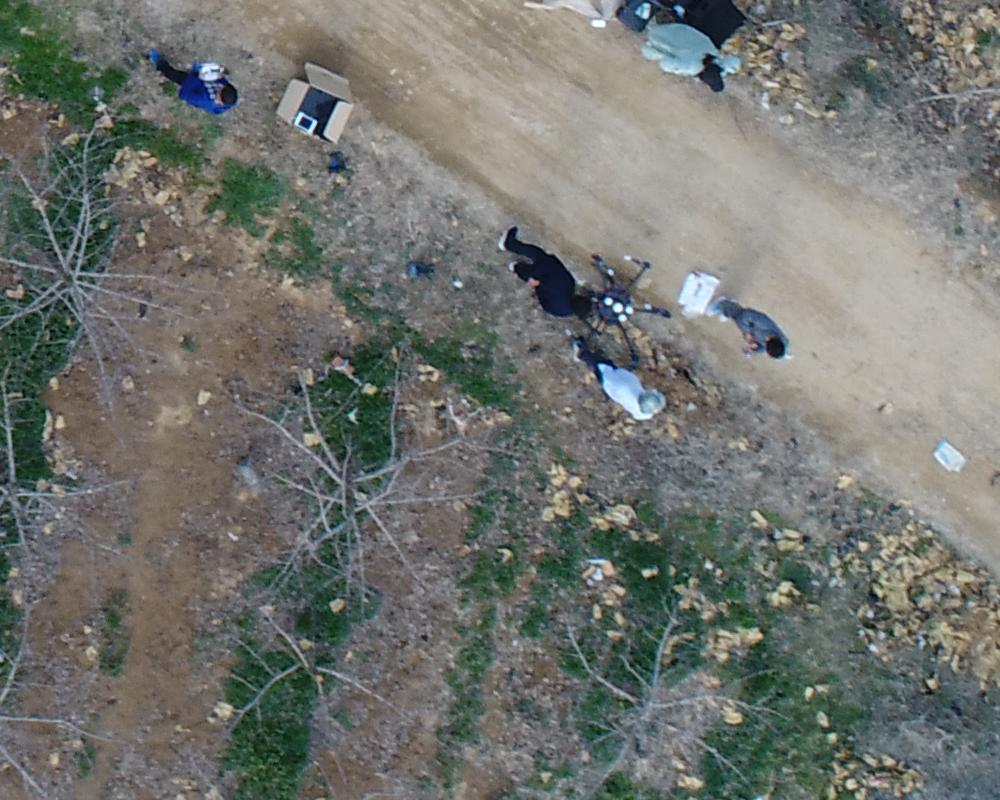apple: (217, 340, 500, 603), (10, 119, 203, 405), (538, 588, 790, 790), (189, 574, 418, 755), (10, 358, 164, 605)
